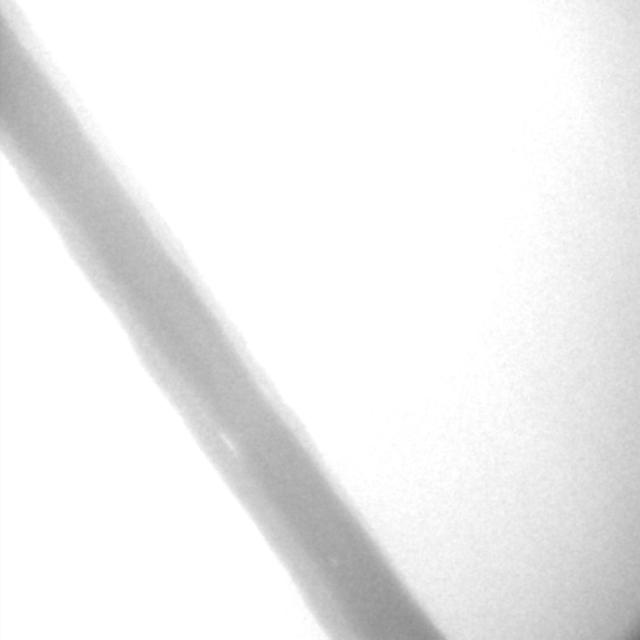air-hole: (220, 434, 232, 451), (329, 556, 335, 565), (346, 544, 349, 550)
broken-arc: (365, 525, 441, 640)
